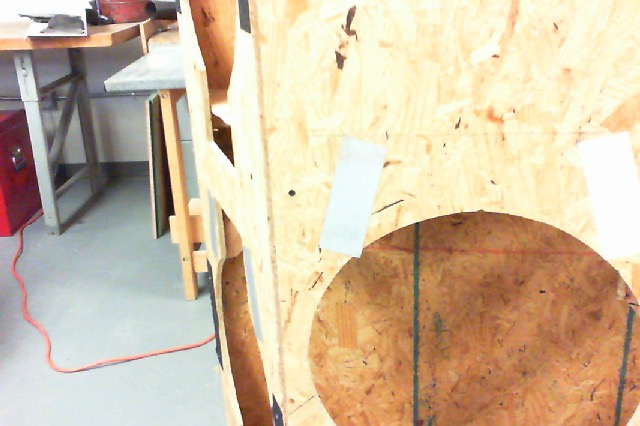Tape: (576, 128, 639, 259), (320, 138, 385, 258), (241, 244, 263, 341), (208, 189, 218, 257)
